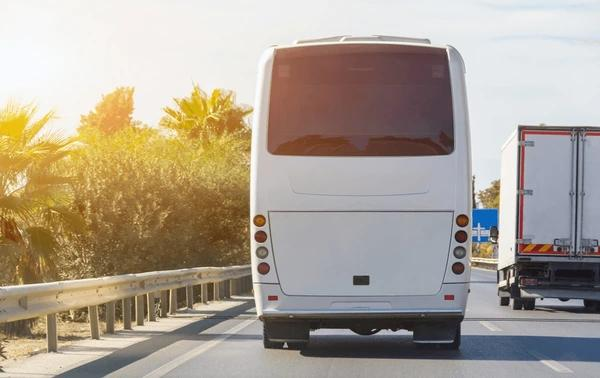bus: (243, 32, 476, 362)
